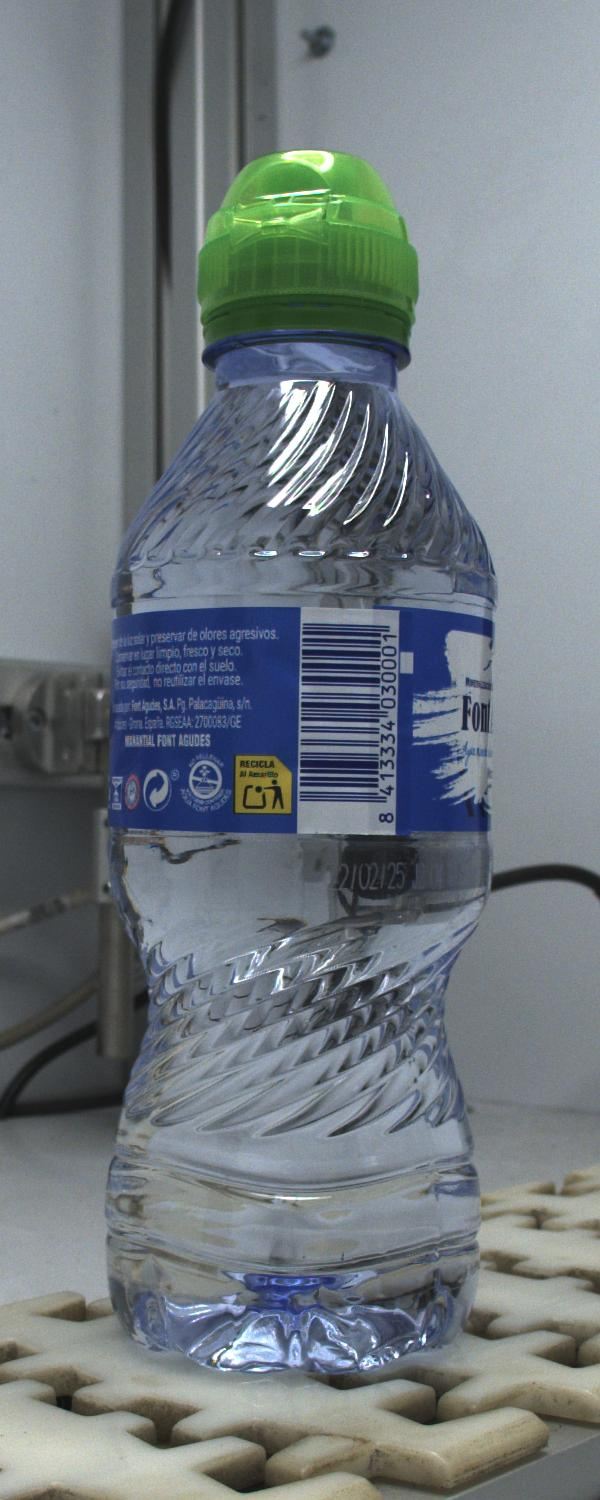bottle: (107, 152, 495, 1373)
cap: (198, 150, 417, 365)
